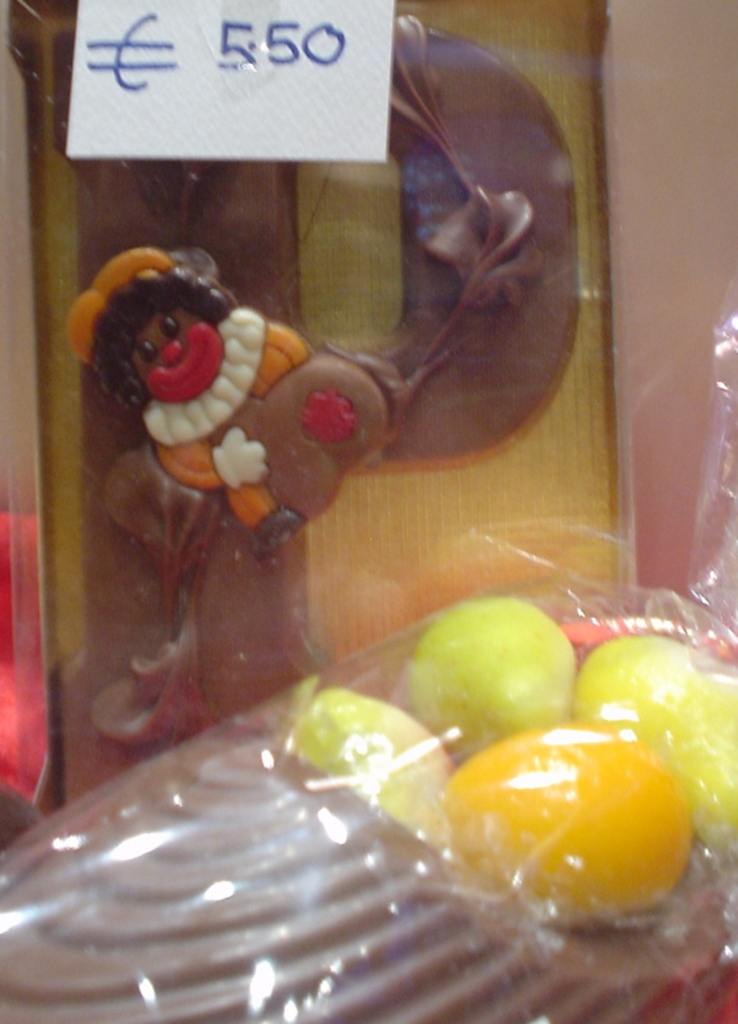Apple: (408, 594, 576, 761)
